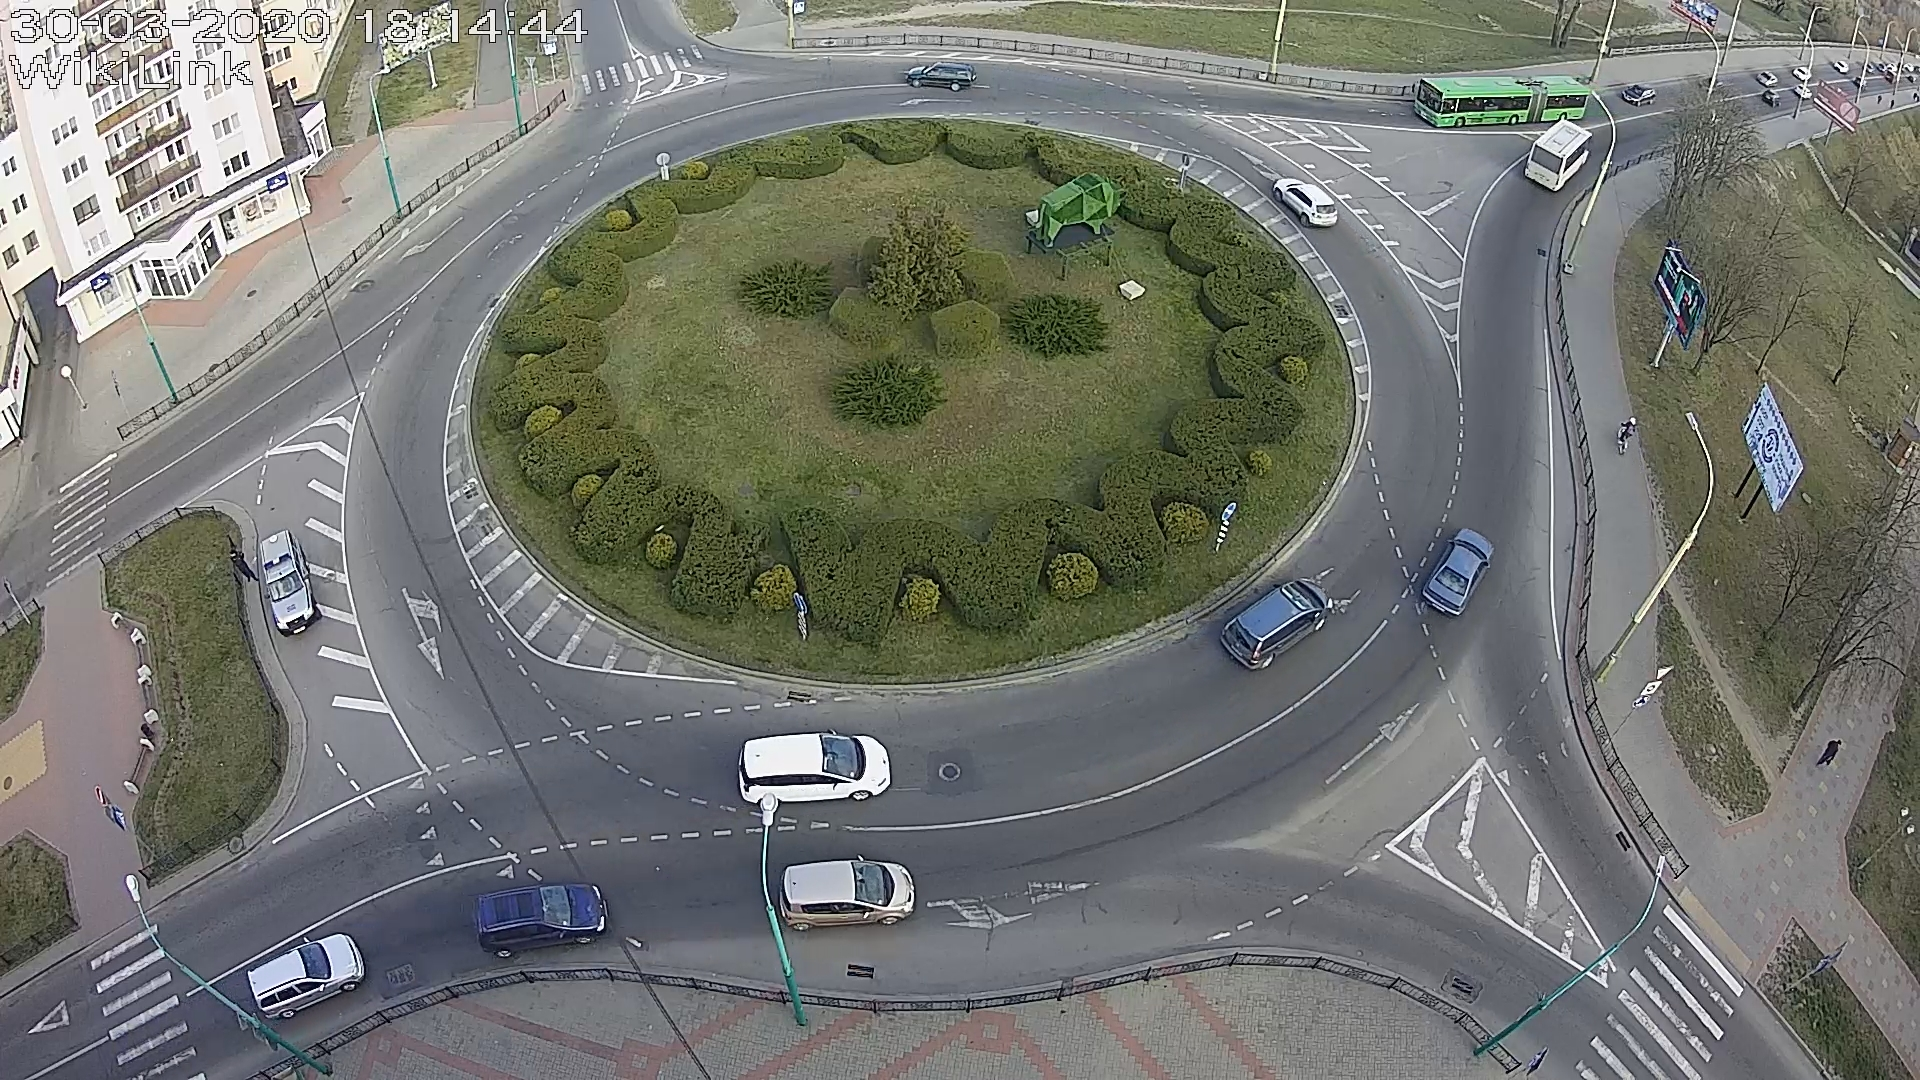bus: (1412, 75, 1588, 128), (1524, 119, 1593, 193)
car: (738, 729, 891, 806), (1220, 578, 1333, 671), (781, 855, 916, 932), (247, 932, 365, 1019), (473, 884, 609, 959), (1422, 527, 1495, 618), (260, 529, 322, 637), (1273, 177, 1338, 228), (905, 62, 977, 92), (1622, 83, 1658, 107)
